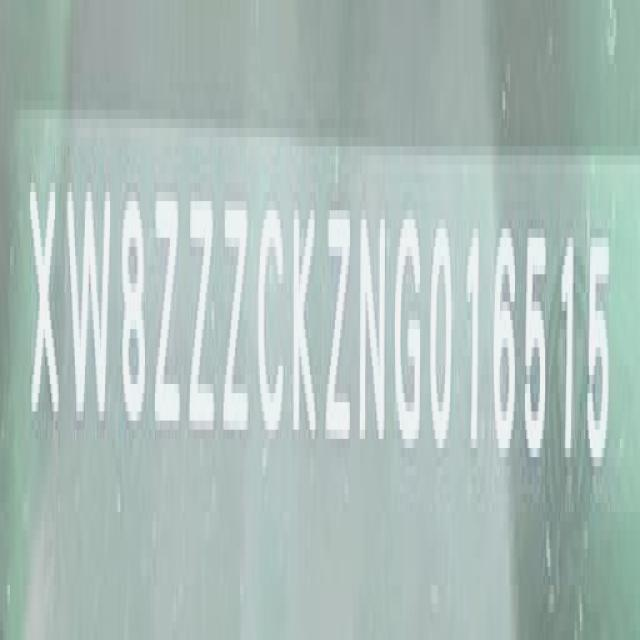0: (429, 215, 455, 460)
1: (559, 221, 579, 467), (465, 215, 484, 460)
5: (589, 219, 615, 471), (525, 218, 549, 464)
6: (494, 218, 520, 461)
8: (122, 190, 147, 443)
C: (258, 196, 287, 449)
G: (393, 206, 421, 454)
K: (294, 198, 320, 454)
N: (358, 207, 388, 458)
W: (68, 185, 114, 441)
X: (30, 170, 60, 438)
Z: (324, 200, 352, 461), (190, 188, 218, 449), (155, 185, 182, 448), (224, 196, 250, 449)
